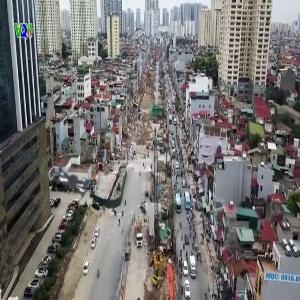drone: (25, 130, 125, 230)
